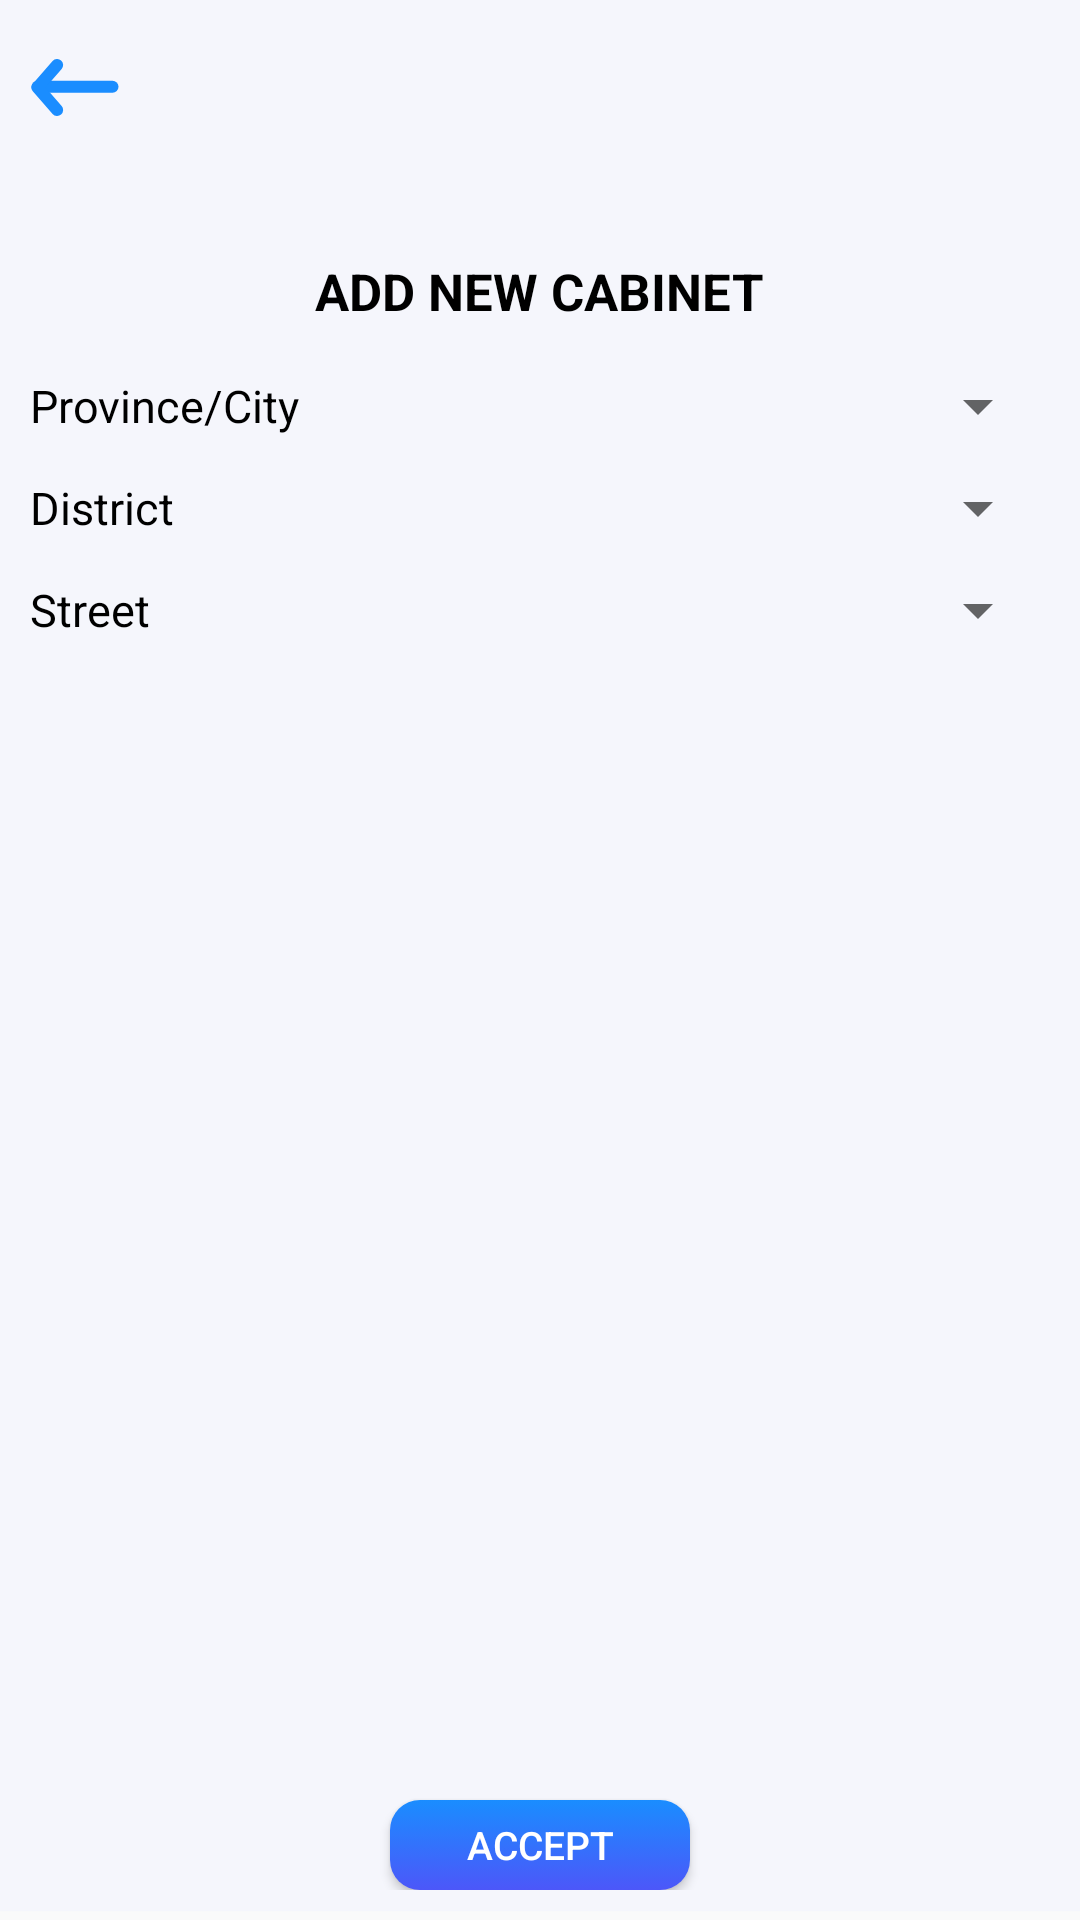

Named icons in this screenshot (1080 x 1920) and their centers, point (x, y):
back: point (75, 87)
